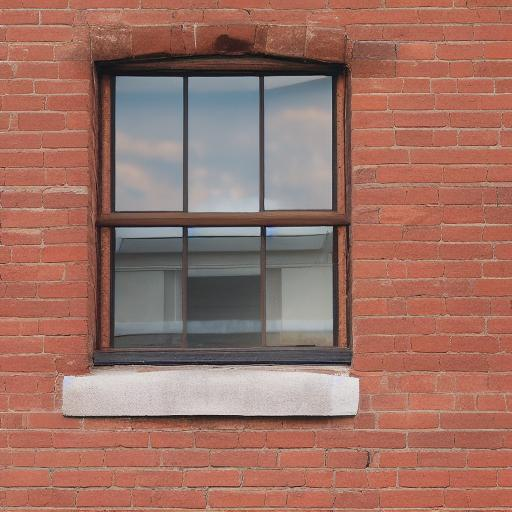Window: (62, 51, 361, 418)
